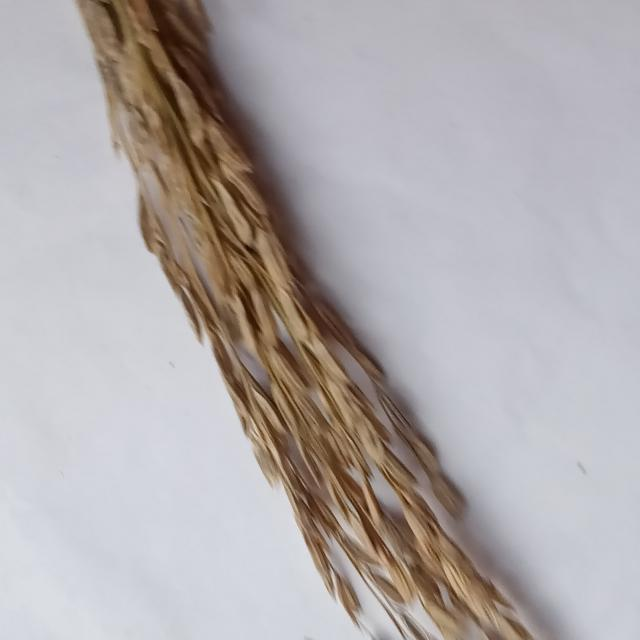Neck_Blast: (60, 0, 559, 640)
